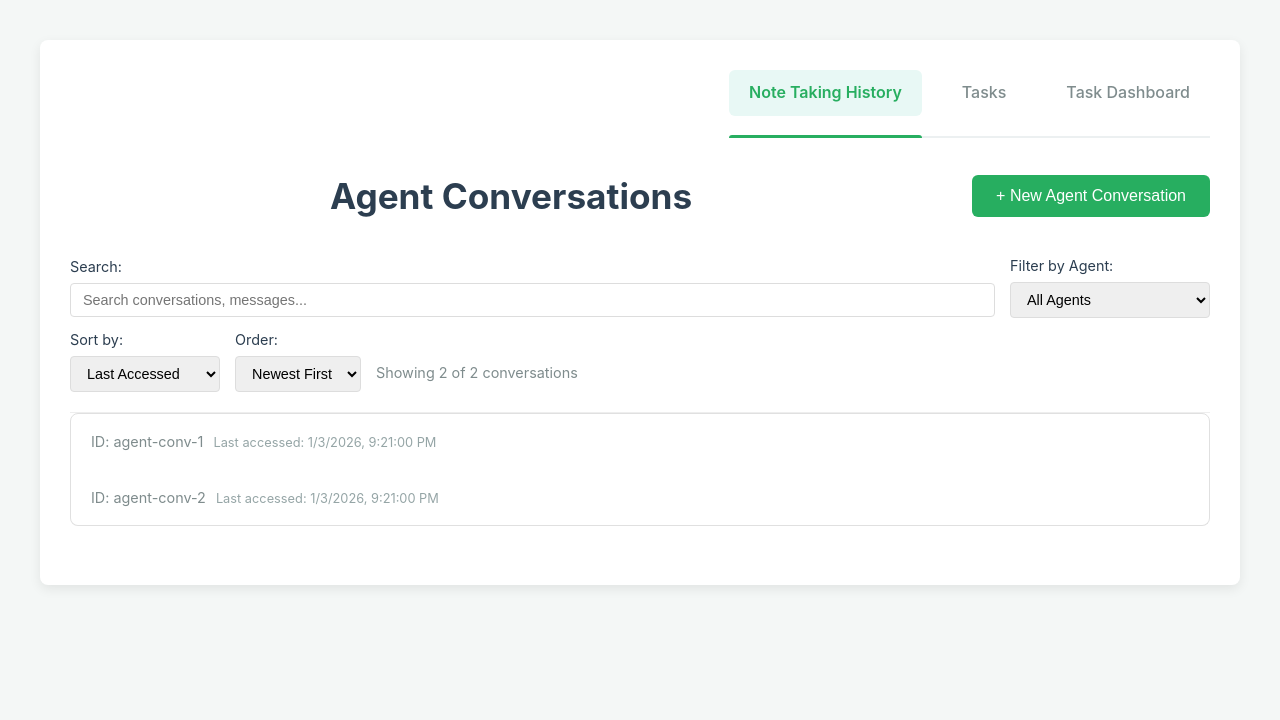
Test: AgentConversationListView › New conversation creation › shows "Creating..." text during creation
Expected: the text "ID: agent-conv-1" is shown, [91, 433, 203, 450]
Click the button "+ New Agent Conversation": (1091, 196) [972, 175, 1210, 217]
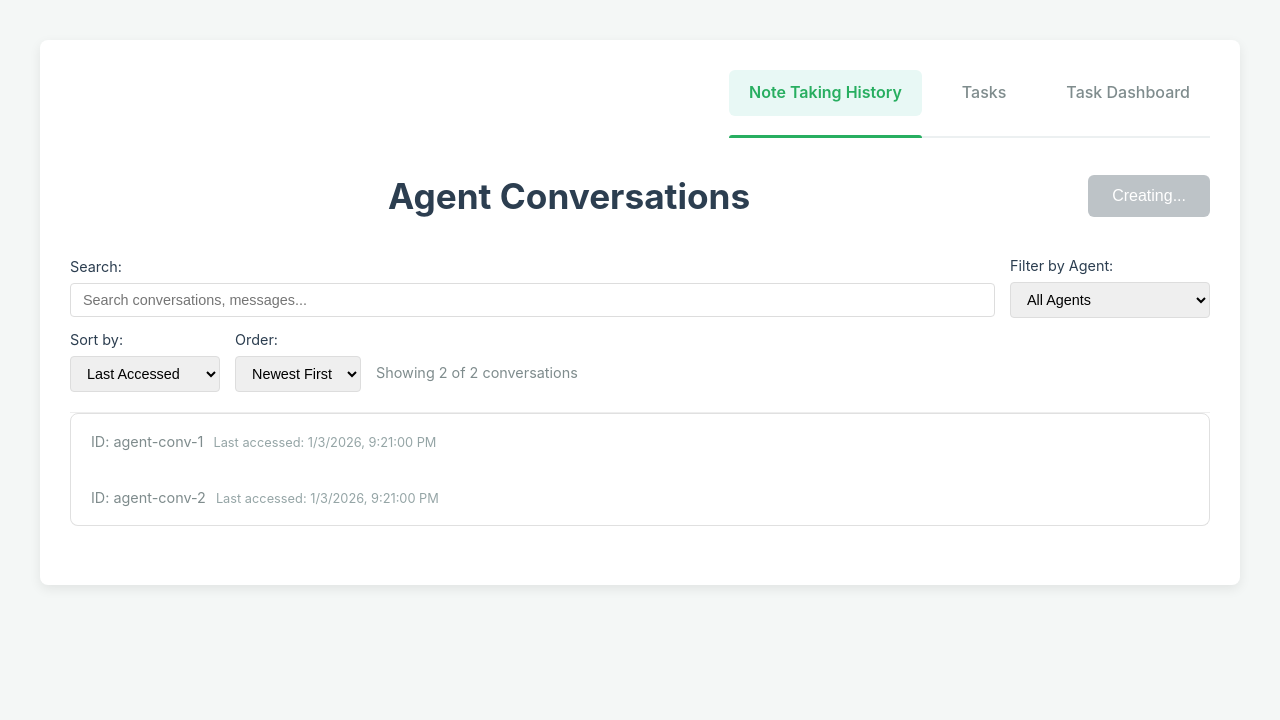
Now the button named "+ new agent conversation" shows "Creating", box [1088, 175, 1210, 217]
